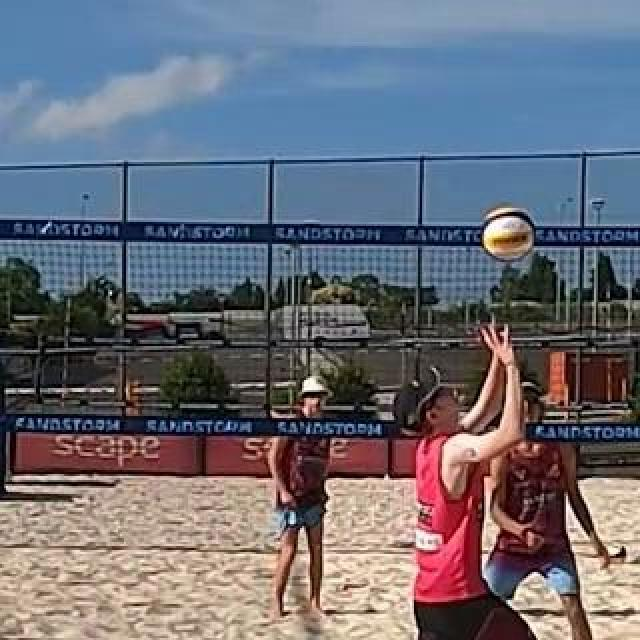volleyball: (483, 210, 533, 260)
